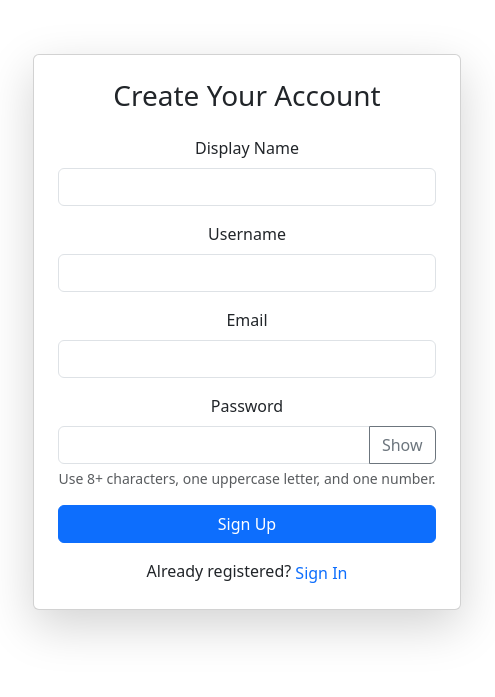
Test: shows backend error message
In the field labelled "Display Name": [247, 187] box [58, 168, 436, 206], type "Jane Doe"
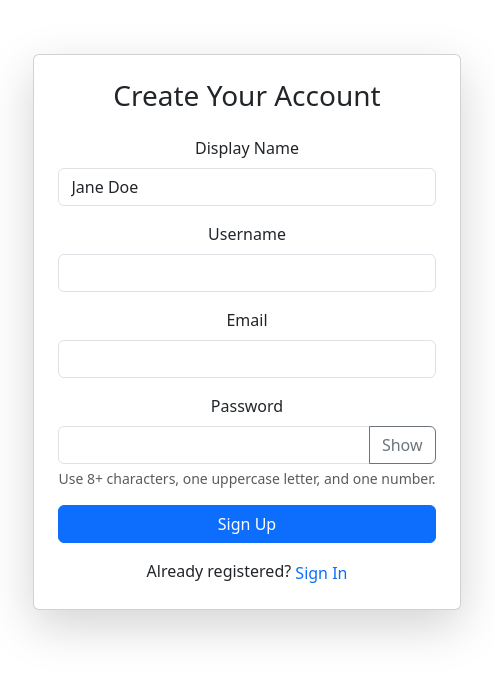
In the field labelled "Username": [247, 273] box [58, 254, 436, 292], type "errorUser"
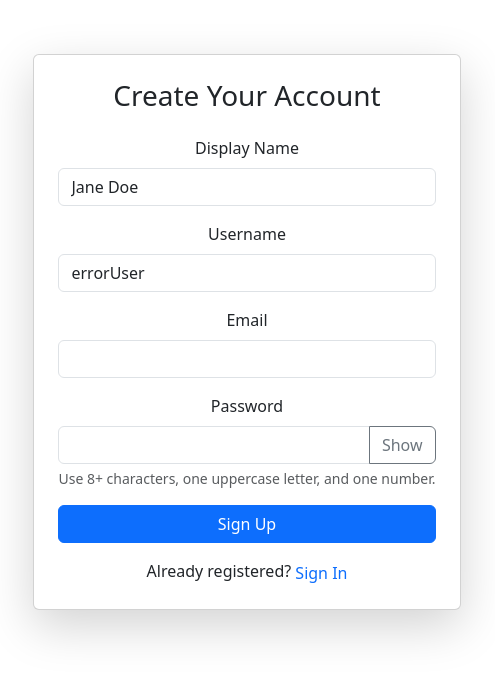
In the field labelled "Email": [247, 359] box [58, 340, 436, 378], type "jane@example.com"
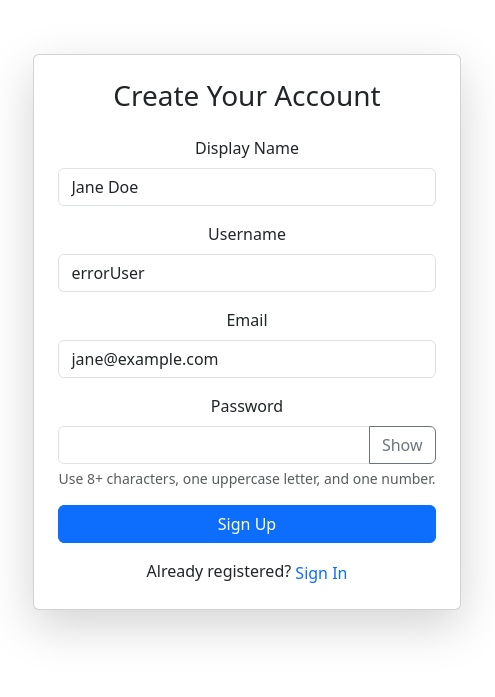
In the password field labelled "Password": [214, 445] box [58, 426, 370, 464], type "StrongPass1"
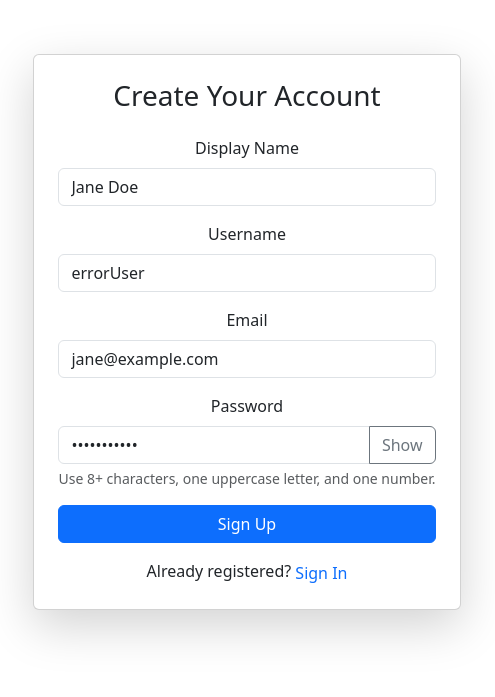
Click the button "Sign Up": [247, 524] box [58, 505, 436, 543]
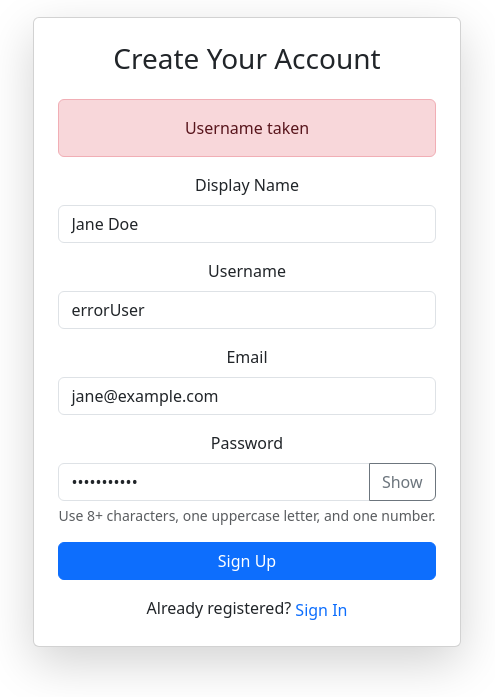
Check: the text "Username taken" is shown, box [58, 99, 436, 157]
